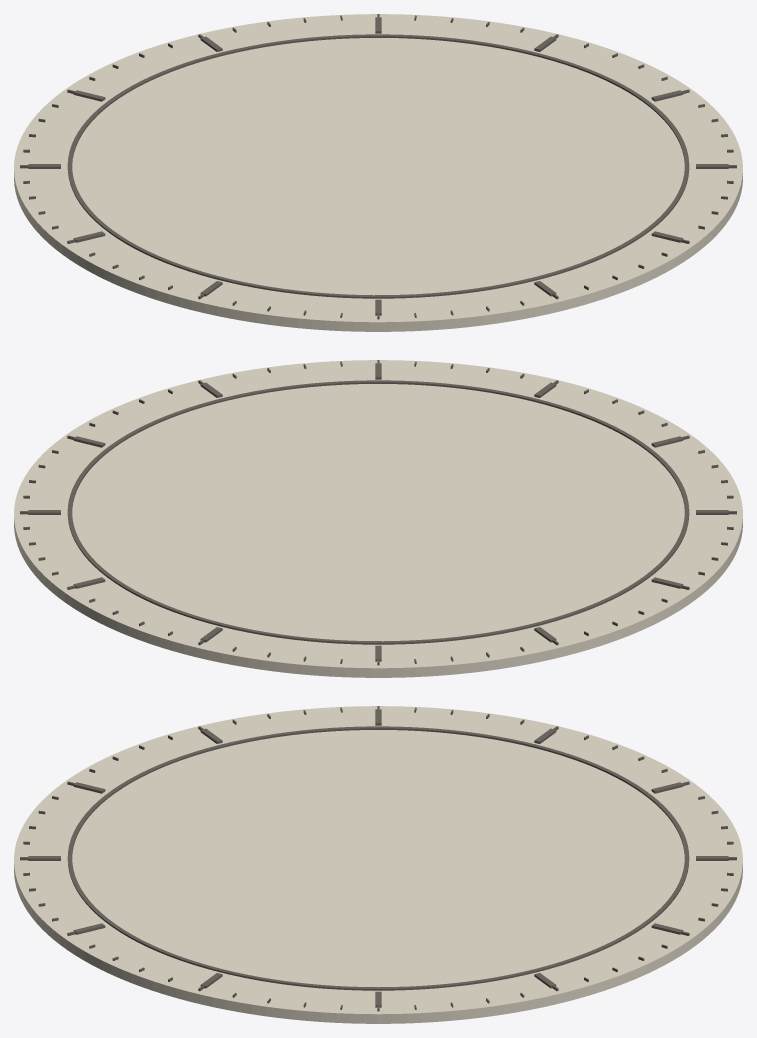
The model's file is dial-dress-sector-285.glb.
3 views of the same model, one above another, from view 1: azimuth 30°, elevation 25°; view 2: azimuth 150°, elevation 25°; view 3: azimuth 270°, elevation 25° (orthographic).
Parts seen in each view (by area): view 1: DD_DIAL_SUBSTRATE, DD_DIAL_SECTOR_RING; view 2: DD_DIAL_SUBSTRATE, DD_DIAL_SECTOR_RING; view 3: DD_DIAL_SUBSTRATE, DD_DIAL_SECTOR_RING.
Part boxes in pixels (<box>): DD_DIAL_SUBSTRATE: <box>14,14,742,331</box>; DD_DIAL_SECTOR_RING: <box>67,34,689,298</box>; DD_DIAL_SUBSTRATE: <box>14,360,742,677</box>; DD_DIAL_SECTOR_RING: <box>67,380,689,644</box>; DD_DIAL_SUBSTRATE: <box>14,706,742,1023</box>; DD_DIAL_SECTOR_RING: <box>67,726,689,990</box>.
Bounding box in the file's own units: 28.5 × 0.54 × 28.5.
